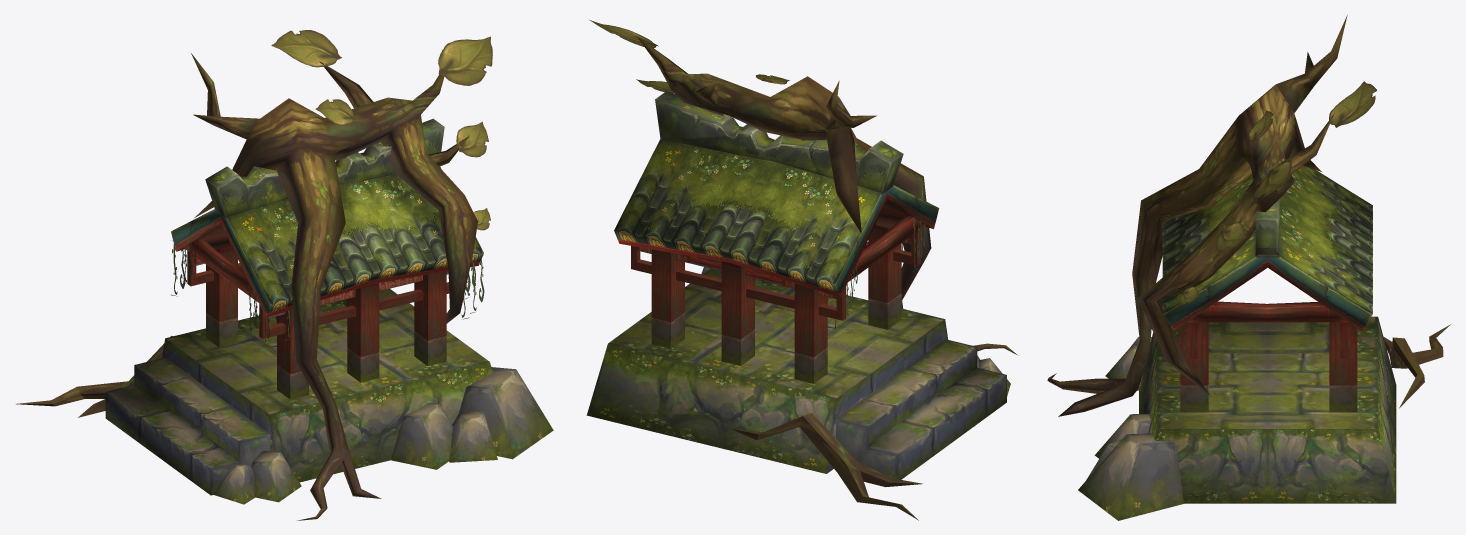
File: house-01.FBX
The picture shows the model from 3 angles, left to right: view 1: azimuth 30°, elevation 25°; view 2: azimuth 150°, elevation 25°; view 3: azimuth 270°, elevation 25°; orthographic projection. The views are drawn at different scales.
Parts seen in each view (by area): view 1: house-01; view 2: house-01; view 3: house-01.
Part boxes in pixels (x1,y1,x2,y2): house-01: (16,30,553,520); house-01: (586,20,1016,520); house-01: (1047,15,1450,520).
Bounding box in the file's own units: 686 × 569 × 587.
